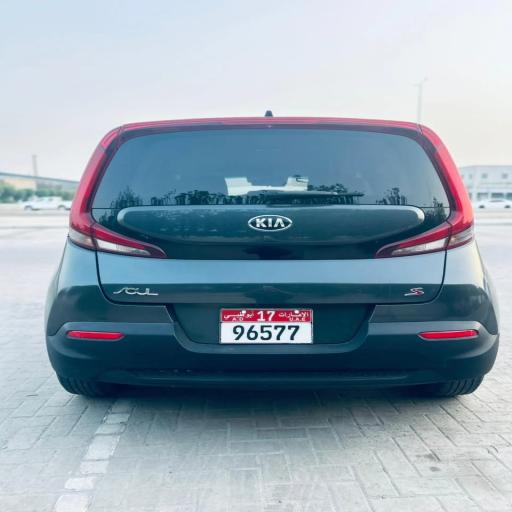license-plates: (221, 309, 312, 343)
